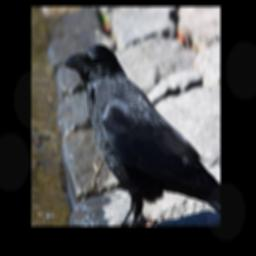Crow: (61, 43, 219, 226)
